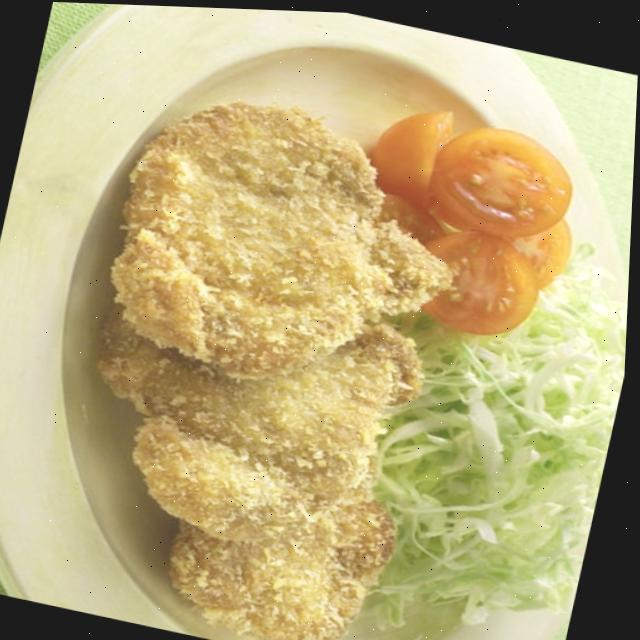牛肉菜式: (2, 10, 621, 640)
